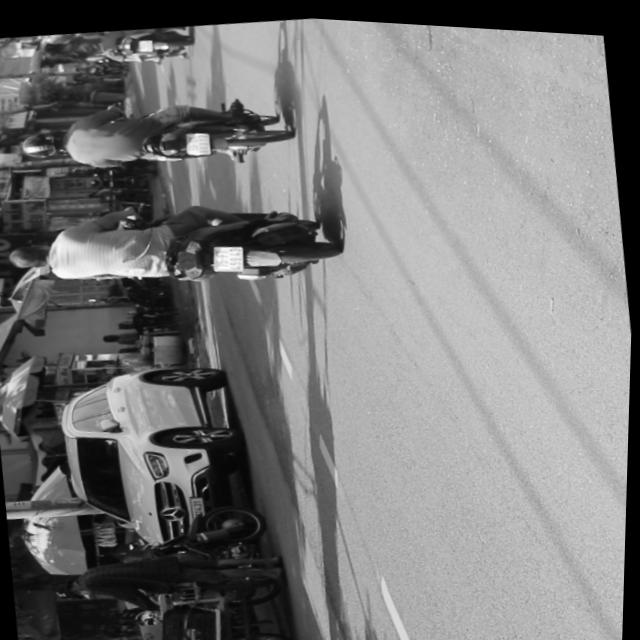helmet: (19, 128, 68, 161)
licenseplate: (0, 175, 343, 315), (13, 76, 294, 190)
motorcyclist: (7, 240, 54, 273)
nohelmet: (212, 240, 246, 270), (185, 127, 212, 154)
